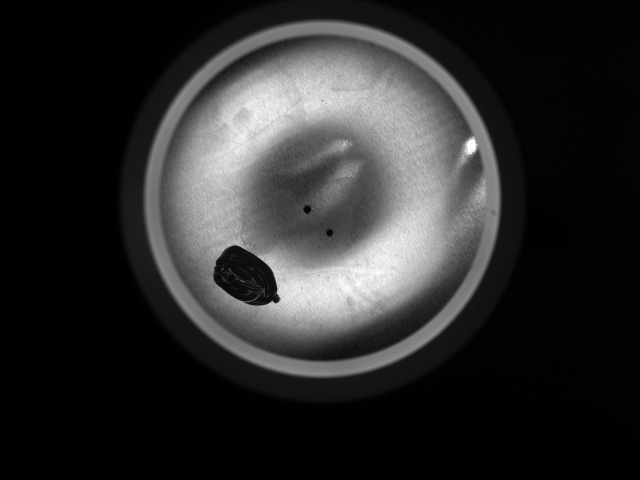zang_wu: (212, 244, 284, 307)
zhen_kong: (323, 226, 336, 239), (302, 203, 313, 215)
